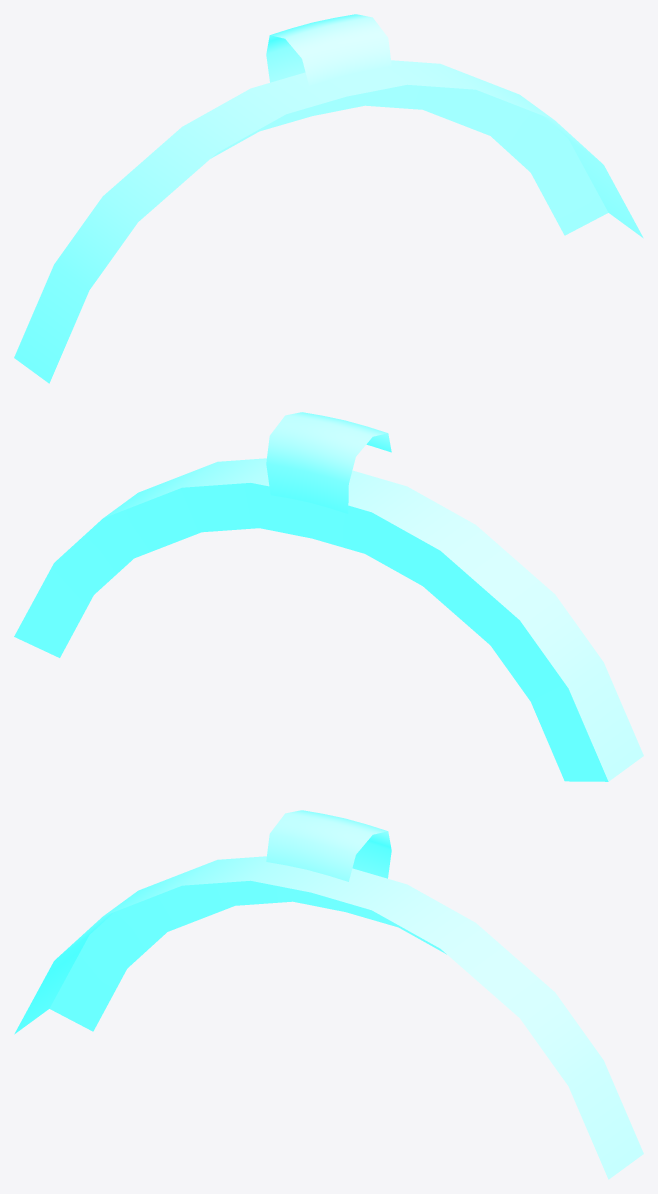
File: PH_mesh_Galaxy_Door_ArcTop.fbx
3 renders of one model, top to bottom at view 1: azimuth 30°, elevation 25°; view 2: azimuth 150°, elevation 25°; view 3: azimuth 330°, elevation 25°, orthographic.
Visible parts, largest first — view 1: mesh_Galaxy_Door_ArcTop; view 2: mesh_Galaxy_Door_ArcTop; view 3: mesh_Galaxy_Door_ArcTop.
Part boxes in pixels (x1,y1,x2,y2): mesh_Galaxy_Door_ArcTop: (14, 14, 643, 383); mesh_Galaxy_Door_ArcTop: (14, 412, 643, 781); mesh_Galaxy_Door_ArcTop: (14, 810, 643, 1179).
Bounding box in the file's own units: 4.12 × 1.88 × 0.5182.
